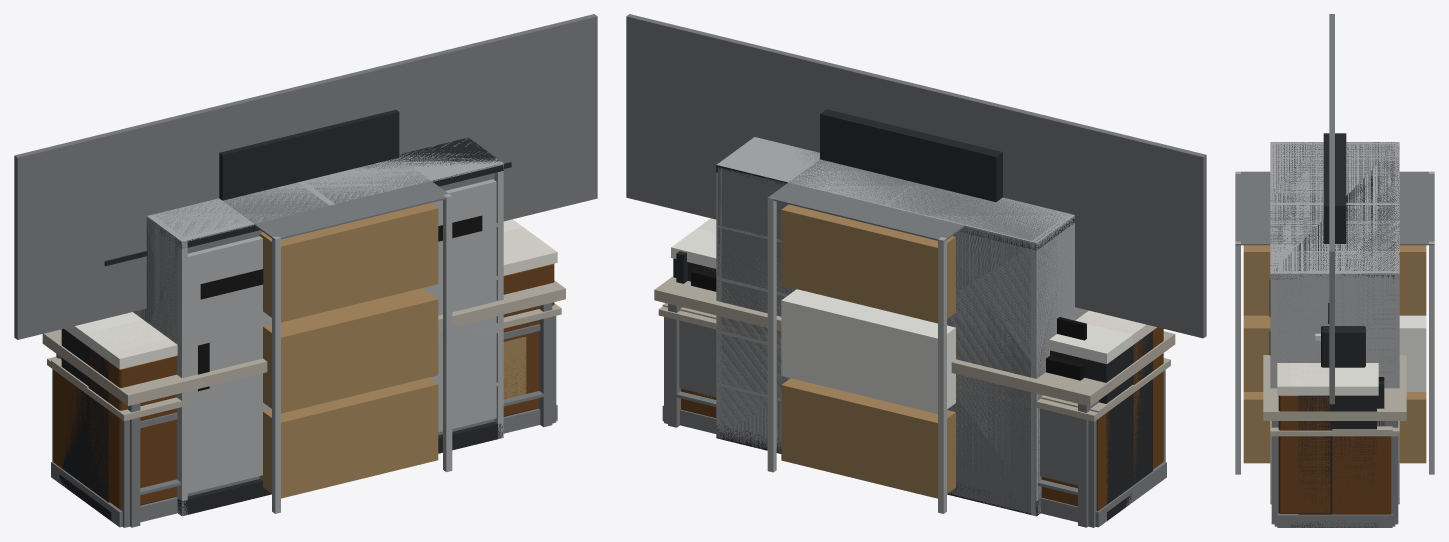
Rendered from hero-s2.glb.
The picture shows the model from 3 angles, left to right: view 1: azimuth 30°, elevation 25°; view 2: azimuth 150°, elevation 25°; view 3: azimuth 270°, elevation 25°; orthographic projection. The views are drawn at different scales.
Visible parts, largest first — view 1: logoWall.steel, stockShelf.timber, switchBoard.galv, mailCage.galv, receptionCounter.oak, liftDoor.steelDark, stockShelf.steel, sortingTable.laminate, switchBoard.steelDark, cafeCounter.steelDark, stockShelf.galv, switchBoard.steel (+8 smaller); view 2: logoWall.steel, switchBoard.steel, mailCage.galv, stockShelf.timber, stockShelf.white, liftDoor.steelDark, cafeCounter.steelDark, bmsDesk.steel, sortingTable.laminate, stockShelf.galv, stockShelf.steel, receptionCounter.oak (+7 smaller); view 3: mailCage.galv, receptionCounter.oak, stockShelf.timber, stockShelf.steel, switchBoard.steelDark, cafeCounter.steelDark, sortingTable.laminate, stockShelf.galv, logoWall.steel, switchBoard.steel, liftDoor.steelDark, cafeCounter.whiteGloss (+7 smaller).
Boxes of the visible parts, x1=… form: logoWall.steel: x1=14, y1=14, x2=597, y2=339; stockShelf.timber: x1=259, y1=203, x2=438, y2=498; switchBoard.galv: x1=186, y1=179, x2=496, y2=493; mailCage.galv: x1=133, y1=138, x2=503, y2=516; receptionCounter.oak: x1=53, y1=263, x2=554, y2=509; liftDoor.steelDark: x1=219, y1=109, x2=399, y2=200; stockShelf.steel: x1=223, y1=158, x2=449, y2=240; sortingTable.laminate: x1=42, y1=280, x2=565, y2=405; switchBoard.steelDark: x1=156, y1=137, x2=503, y2=515; cafeCounter.steelDark: x1=59, y1=329, x2=111, y2=520; stockShelf.galv: x1=272, y1=194, x2=452, y2=513; switchBoard.steel: x1=134, y1=173, x2=494, y2=496; logoWall.steel: x1=626, y1=14, x2=1206, y2=338; switchBoard.steel: x1=717, y1=147, x2=1072, y2=514; mailCage.galv: x1=716, y1=137, x2=1088, y2=515; stockShelf.timber: x1=781, y1=204, x2=955, y2=498; stockShelf.white: x1=781, y1=289, x2=955, y2=413; liftDoor.steelDark: x1=820, y1=109, x2=1002, y2=201; cafeCounter.steelDark: x1=673, y1=258, x2=1152, y2=520; bmsDesk.steel: x1=664, y1=317, x2=1165, y2=527; sortingTable.laminate: x1=654, y1=276, x2=1175, y2=406; stockShelf.galv: x1=767, y1=197, x2=946, y2=513; stockShelf.steel: x1=768, y1=159, x2=964, y2=241; receptionCounter.oak: x1=681, y1=327, x2=1163, y2=511; mailCage.galv: x1=1270, y1=142, x2=1399, y2=504; receptionCounter.oak: x1=1278, y1=395, x2=1391, y2=514; stockShelf.timber: x1=1243, y1=245, x2=1426, y2=463; stockShelf.steel: x1=1235, y1=171, x2=1434, y2=245; switchBoard.steelDark: x1=1270, y1=142, x2=1399, y2=503; cafeCounter.steelDark: x1=1291, y1=326, x2=1377, y2=527; sortingTable.laminate: x1=1263, y1=355, x2=1406, y2=420; stockShelf.galv: x1=1235, y1=171, x2=1434, y2=474; logoWall.steel: x1=1329, y1=14, x2=1334, y2=404; switchBoard.steel: x1=1277, y1=144, x2=1398, y2=382; liftDoor.steelDark: x1=1323, y1=133, x2=1346, y2=243; cafeCounter.whiteGloss: x1=1291, y1=363, x2=1378, y2=395.
Size of the model in its own units: 4 by 2.4 by 1.42.
